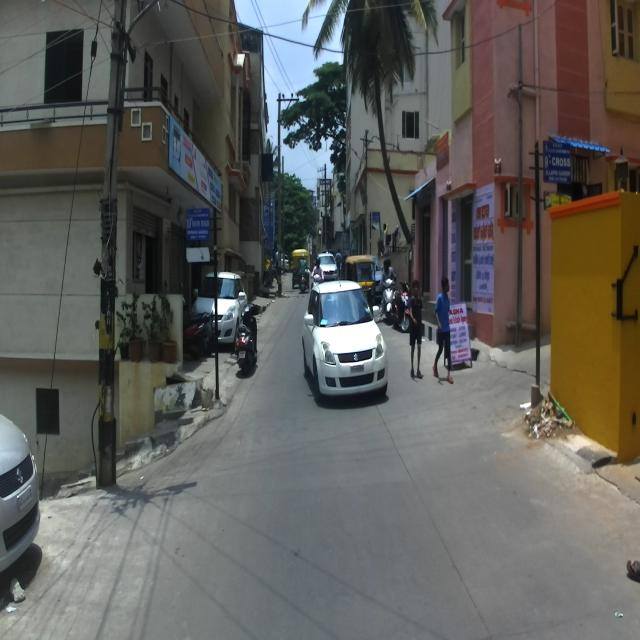car ahead at: (302, 278, 390, 417)
electric pole ahead at: (95, 0, 131, 497)
motorcycle ahead at: (233, 299, 260, 374)
